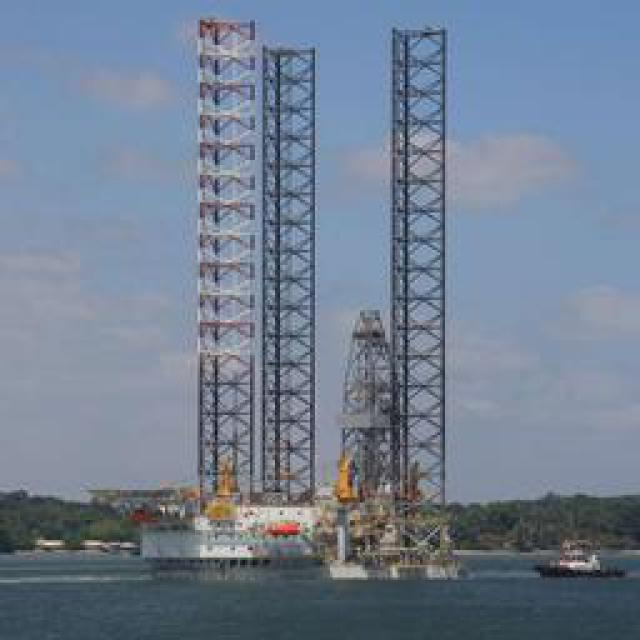Ship: (531, 544, 628, 581)
